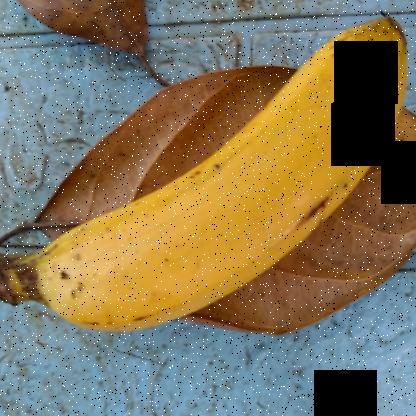freshripe: (38, 1, 416, 344)
